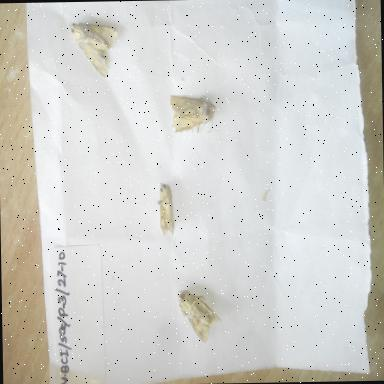abw: (66, 14, 122, 82), (172, 285, 224, 348), (165, 90, 220, 138), (148, 178, 184, 242)
